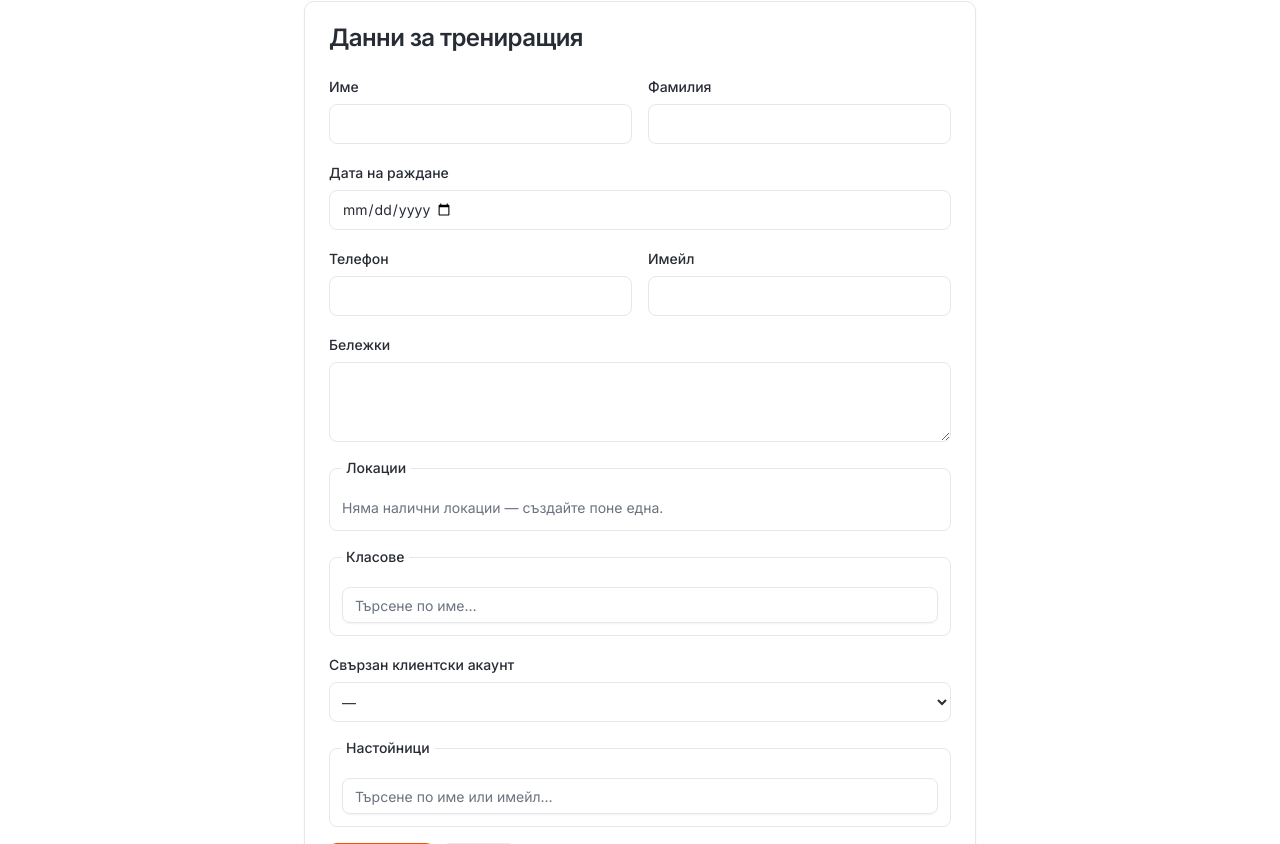
Test: NewTraineePage — dynamic guardian-contacts section (PRD) › enrolls the trainee in the selected class on submit
The image size is (1280, 844).
Type "Ada" into the field labelled "Име" at (480, 124), box [329,104,632,144]
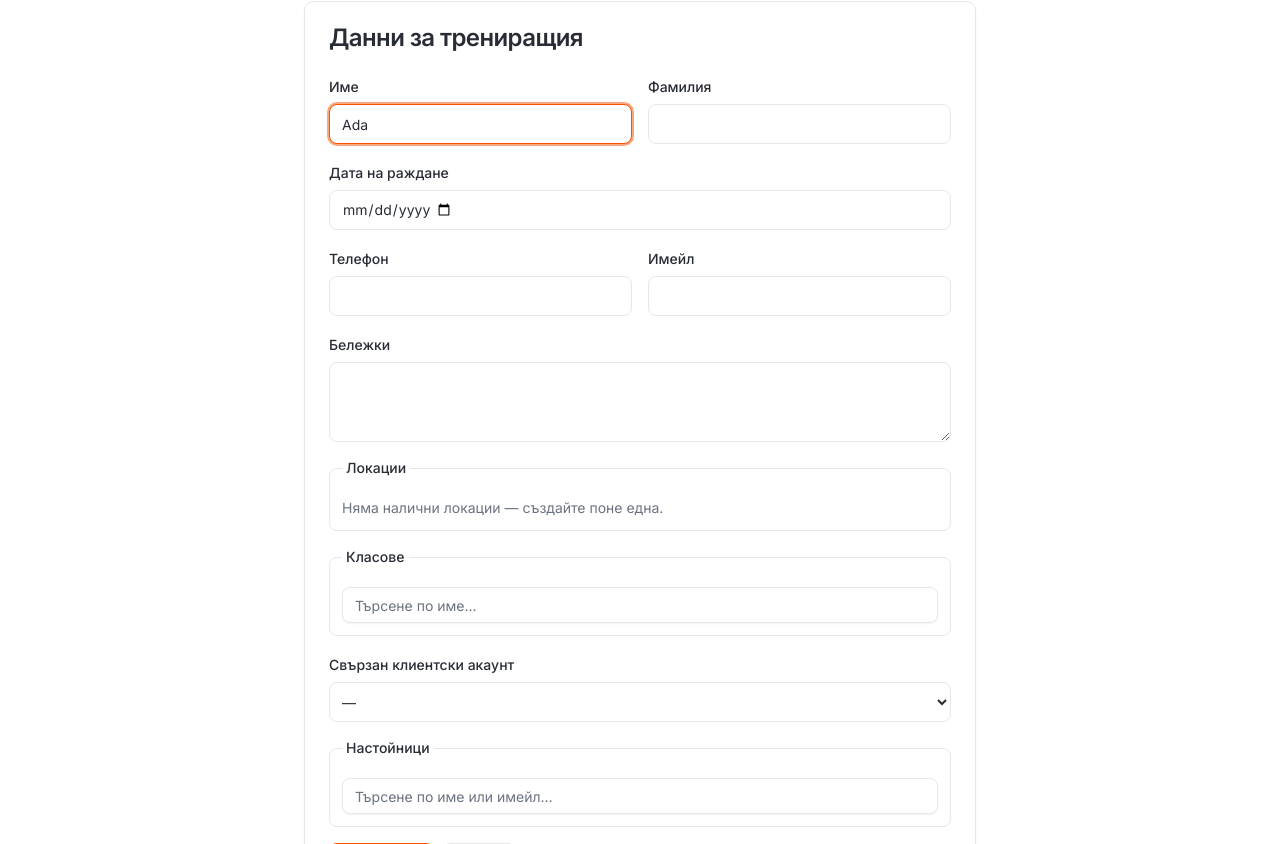
Type "Lovelace" into the field labelled "Фамилия" at (800, 124), box [648,104,951,144]
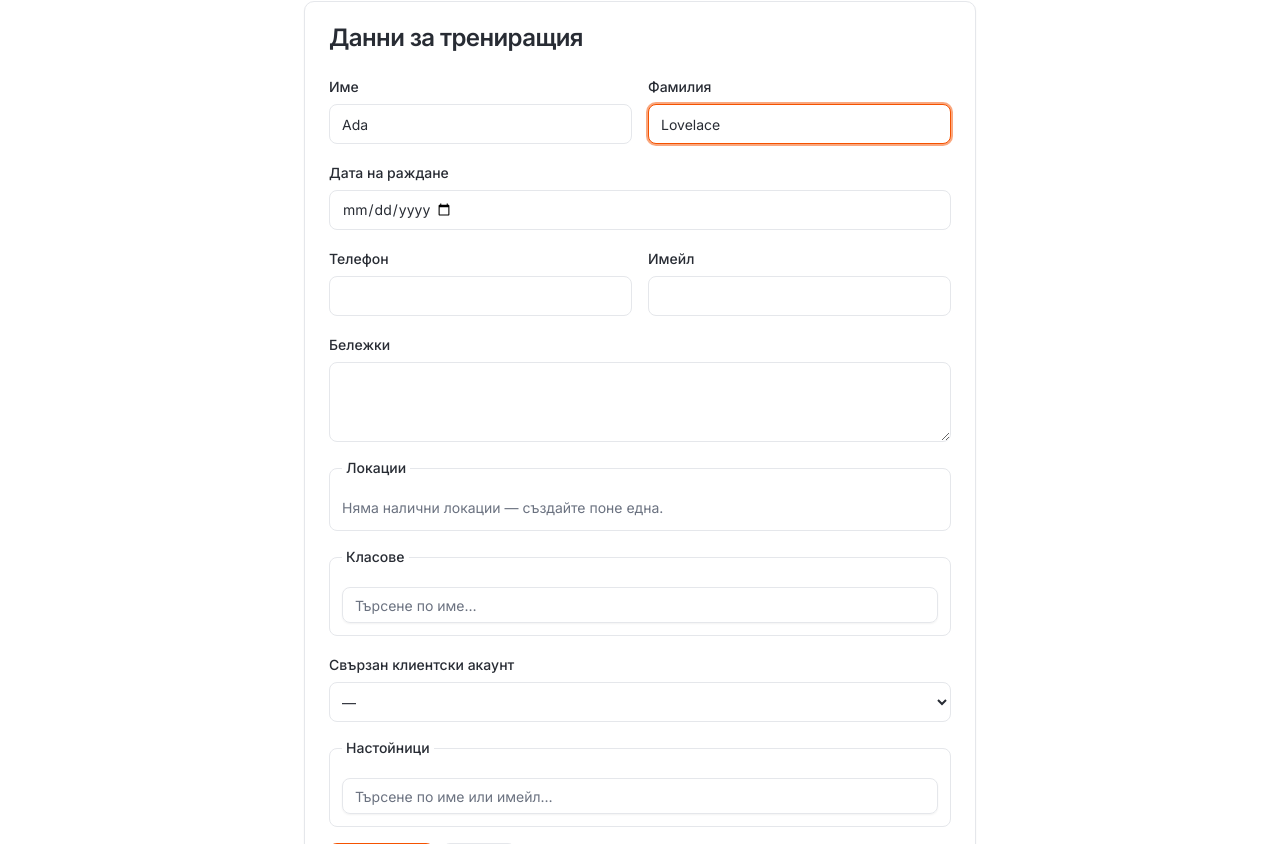
# Adult DOB so the under-18 contact rule does not block submission.
Type "1990-01-01" into the date field labelled "Дата на раждане" at (640, 210), box [329,190,951,230]
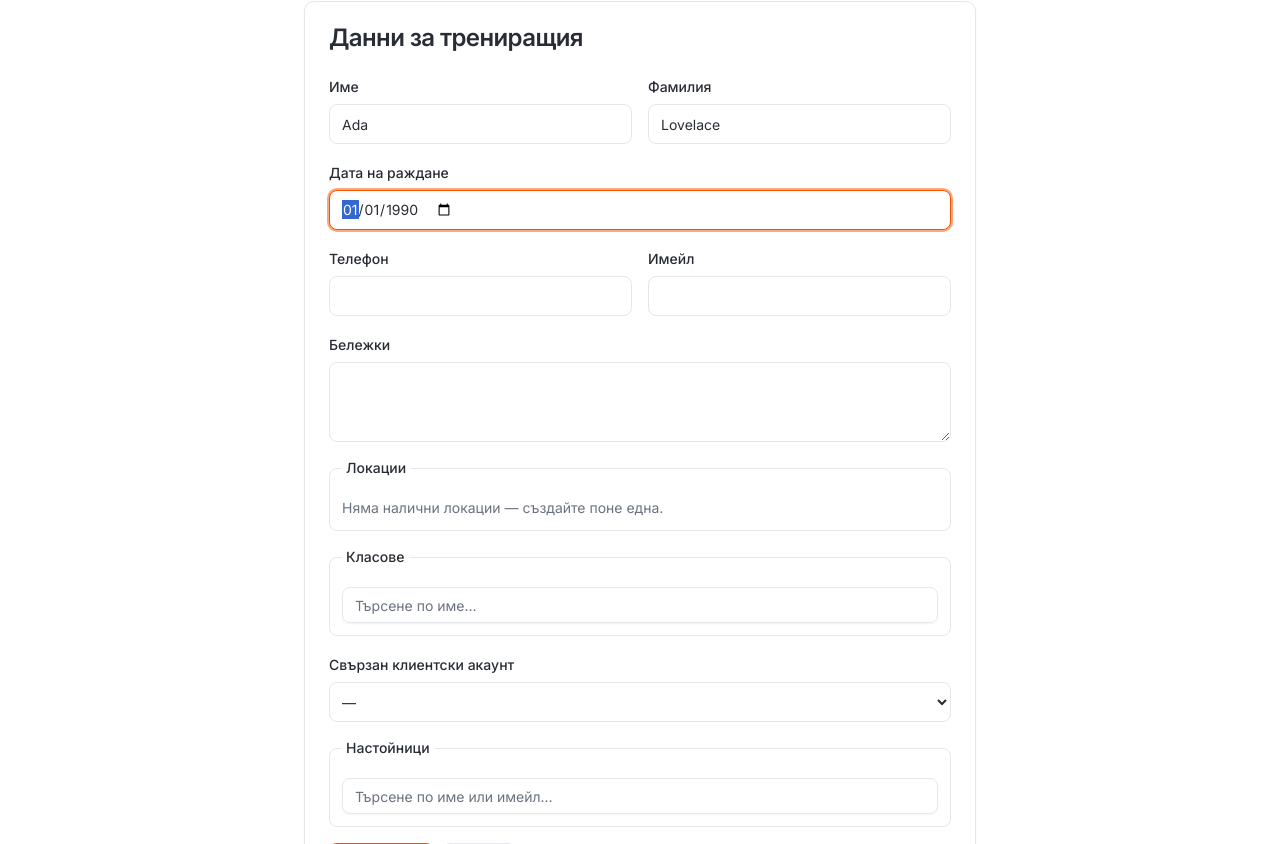
Focus the dropdown with id "classIds" at (640, 605), box [342,587,938,623]
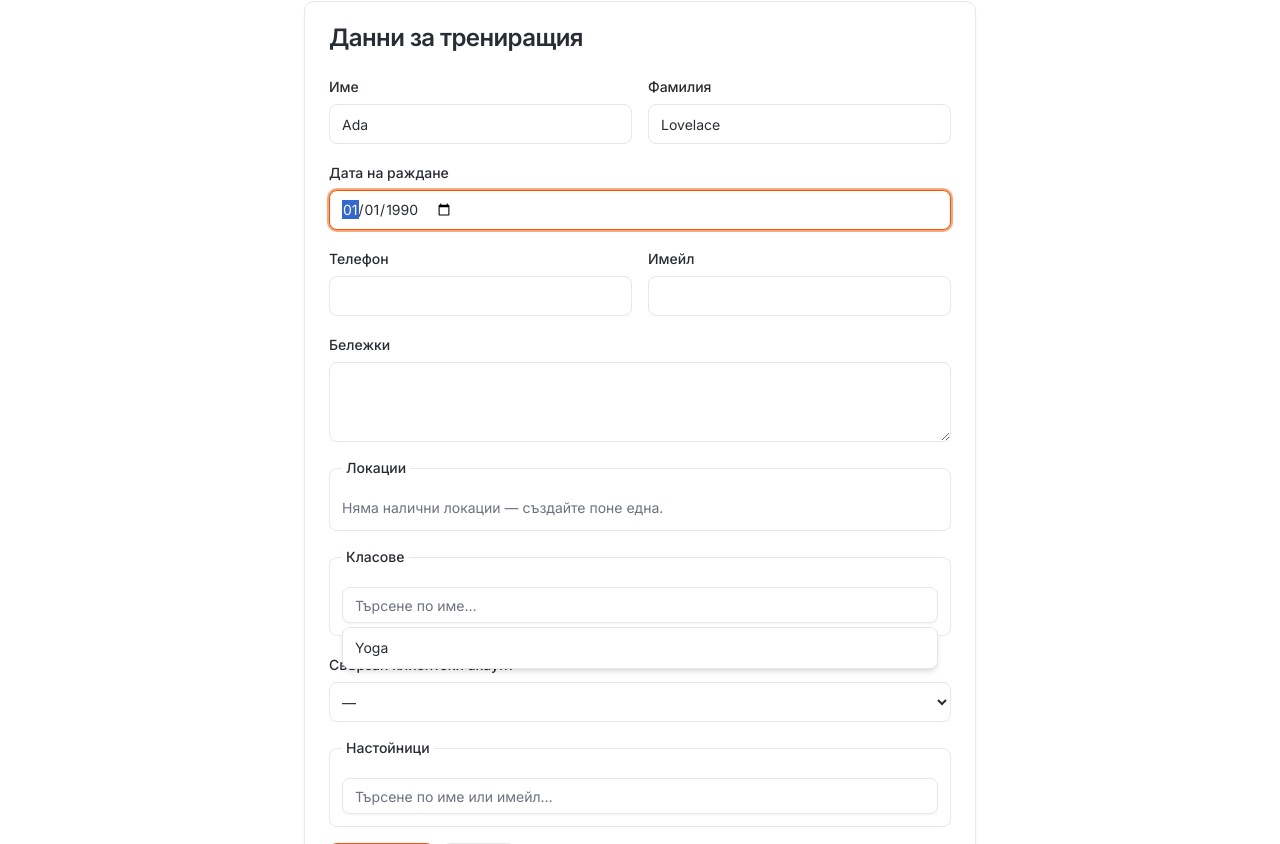
Press the mouse on the option with id "classIds-opt-cls-1" at (372, 648), box [355,639,388,656]
(page scrolled)
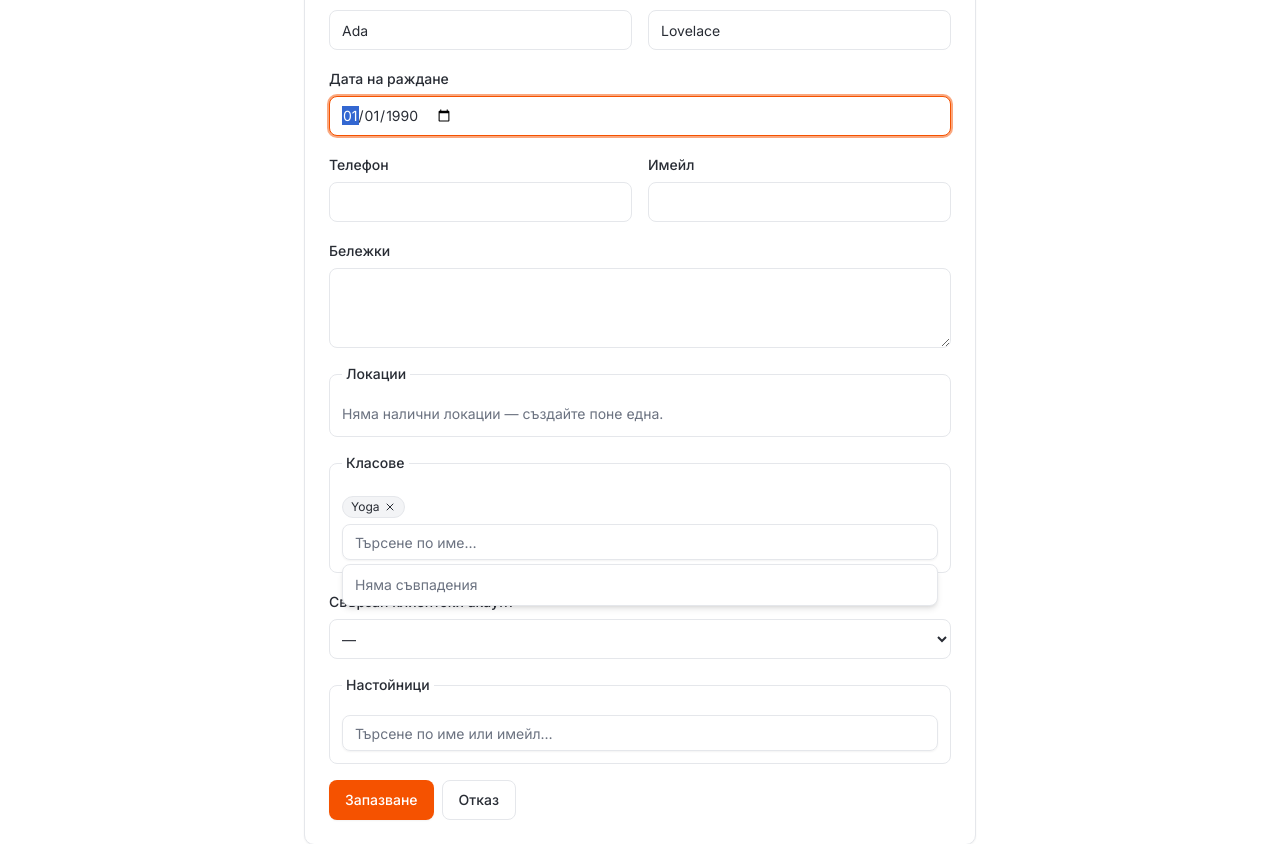
Click the button "Запазване" at (381, 800), box [329,780,434,820]
(page scrolled)
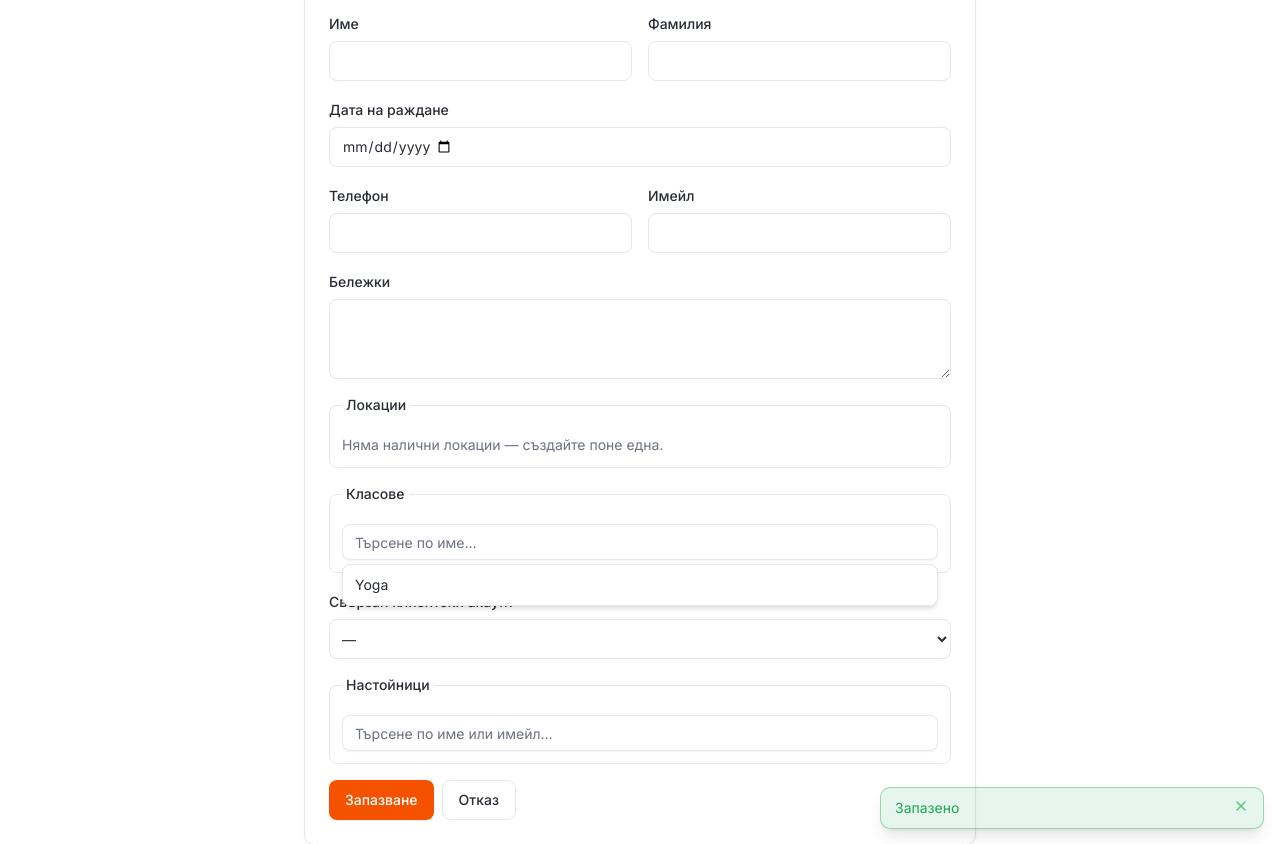
Now the text "Запазено" is shown, box [895,799,959,816]
Now the field labelled "Име" is empty, box [329,41,632,81]
